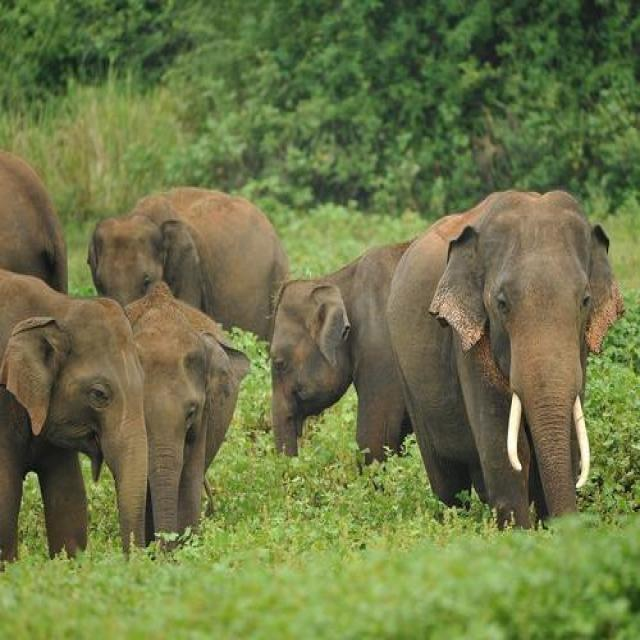Elephant: (384, 182, 629, 528), (2, 262, 154, 570), (268, 238, 413, 469), (122, 282, 246, 552), (87, 182, 287, 316)
